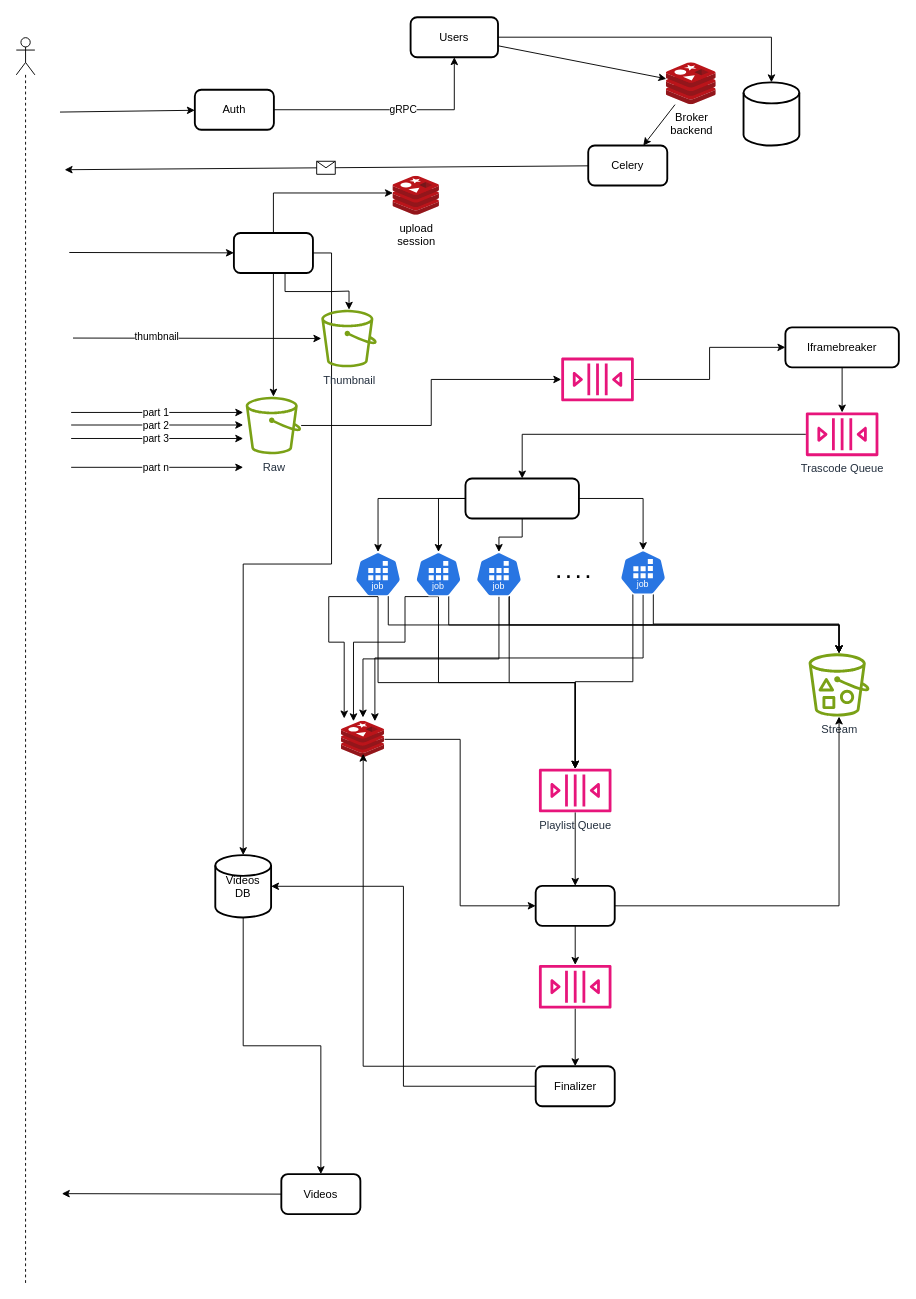
Image size: 916x1299. Some labels were removed from this diagram. The shapes that lost their labels are listed below. From the top down, each one's centre as x and y in pixels, then its label:
At (x=771, y=113): "Users DB".
At (x=272, y=252): "Upload".
At (x=597, y=379): "Upload Queue".
At (x=521, y=498): "Transcoder".
At (x=362, y=739): "Transocde Session".
At (x=574, y=905): "Playlist".
At (x=574, y=986): "Finish Queue".
